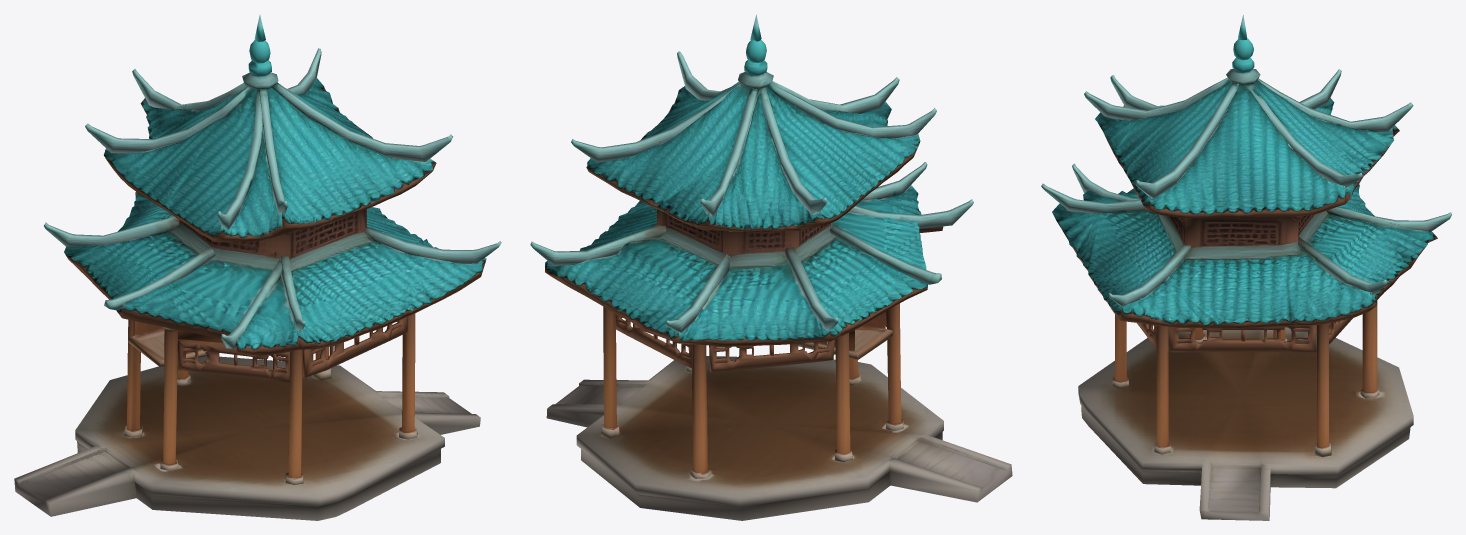
The model's file is qinfang.glb.
3 views of the same model, side by side, from view 1: azimuth 30°, elevation 25°; view 2: azimuth 150°, elevation 25°; view 3: azimuth 270°, elevation 25° (orthographic). The views are drawn at different scales.
Visible parts, largest first — view 1: tripo_node_13e5bfe5-8326-4721-a2dd-77b66770df34; view 2: tripo_node_13e5bfe5-8326-4721-a2dd-77b66770df34; view 3: tripo_node_13e5bfe5-8326-4721-a2dd-77b66770df34.
Boxes of the visible parts, x1=… form: tripo_node_13e5bfe5-8326-4721-a2dd-77b66770df34: x1=14, y1=14, x2=501, y2=520; tripo_node_13e5bfe5-8326-4721-a2dd-77b66770df34: x1=530, y1=14, x2=1012, y2=520; tripo_node_13e5bfe5-8326-4721-a2dd-77b66770df34: x1=1041, y1=15, x2=1451, y2=520.
Size of the model in its own units: 0.998 by 0.9863 by 0.8809.
Materials: 1 (1 with a texture image).
